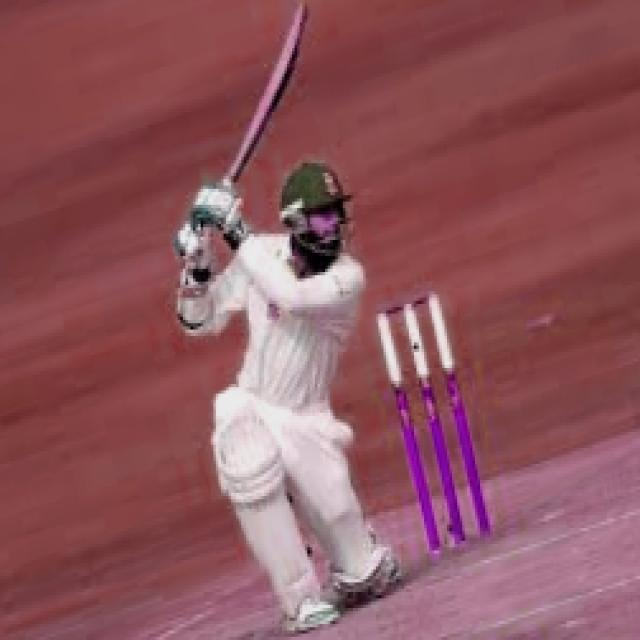toe: (276, 0, 310, 61)
